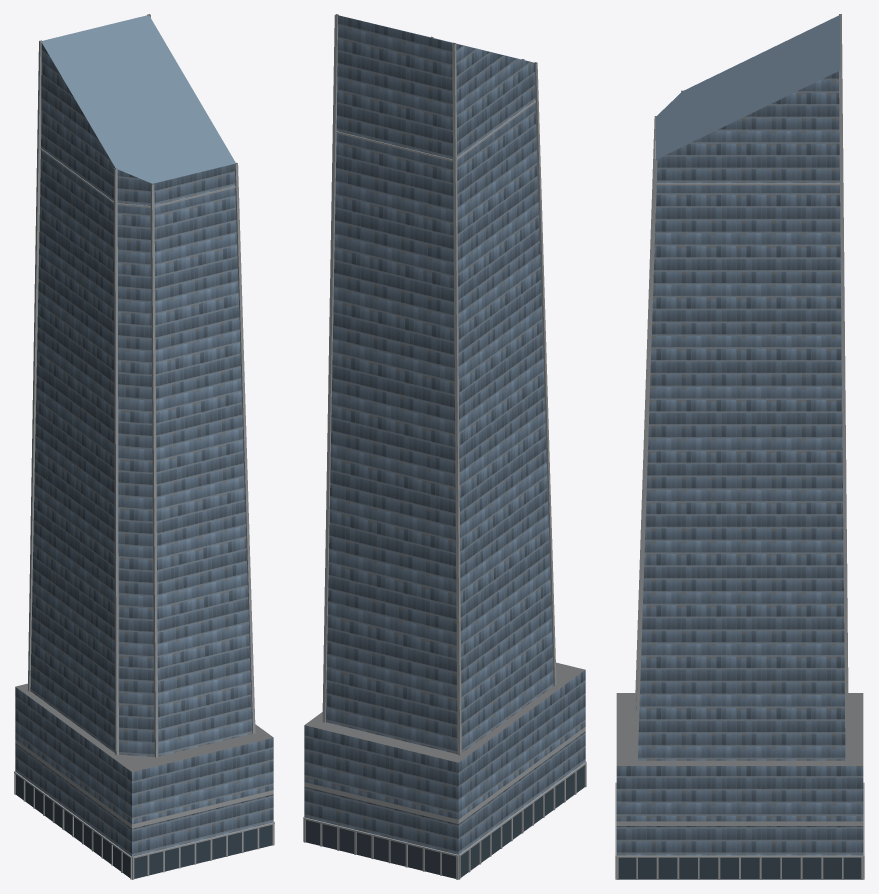
File: hudson_yards_10.glb
The picture shows the model from 3 angles, left to right: view 1: azimuth 30°, elevation 25°; view 2: azimuth 150°, elevation 25°; view 3: azimuth 270°, elevation 25°; orthographic projection. The views are drawn at different scales.
Visible parts, largest first — view 1: hudson_yards_10; view 2: hudson_yards_10; view 3: hudson_yards_10.
Part boxes in pixels (x1,y1,x2,y2): hudson_yards_10: [14, 14, 274, 879]; hudson_yards_10: [303, 14, 586, 879]; hudson_yards_10: [615, 14, 864, 879].
Size of the model in its own units: 53.3 by 268 by 75.81.
2 materials, 2 textured.
